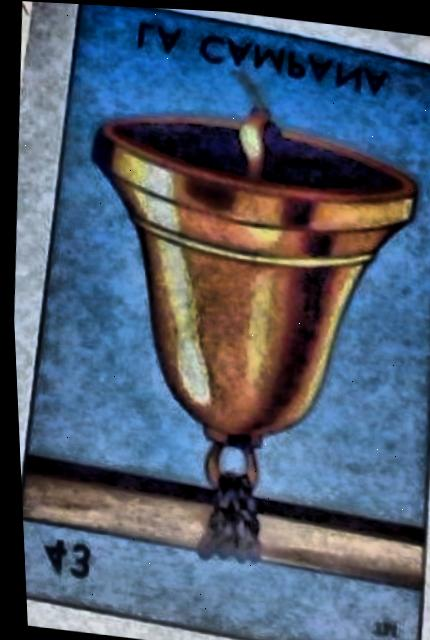La Campana: (18, 3, 430, 640)
